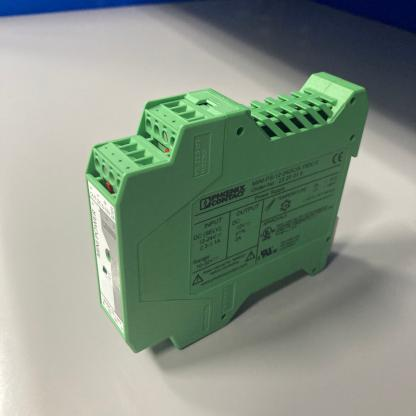SP0000011: (41, 46, 404, 370)
